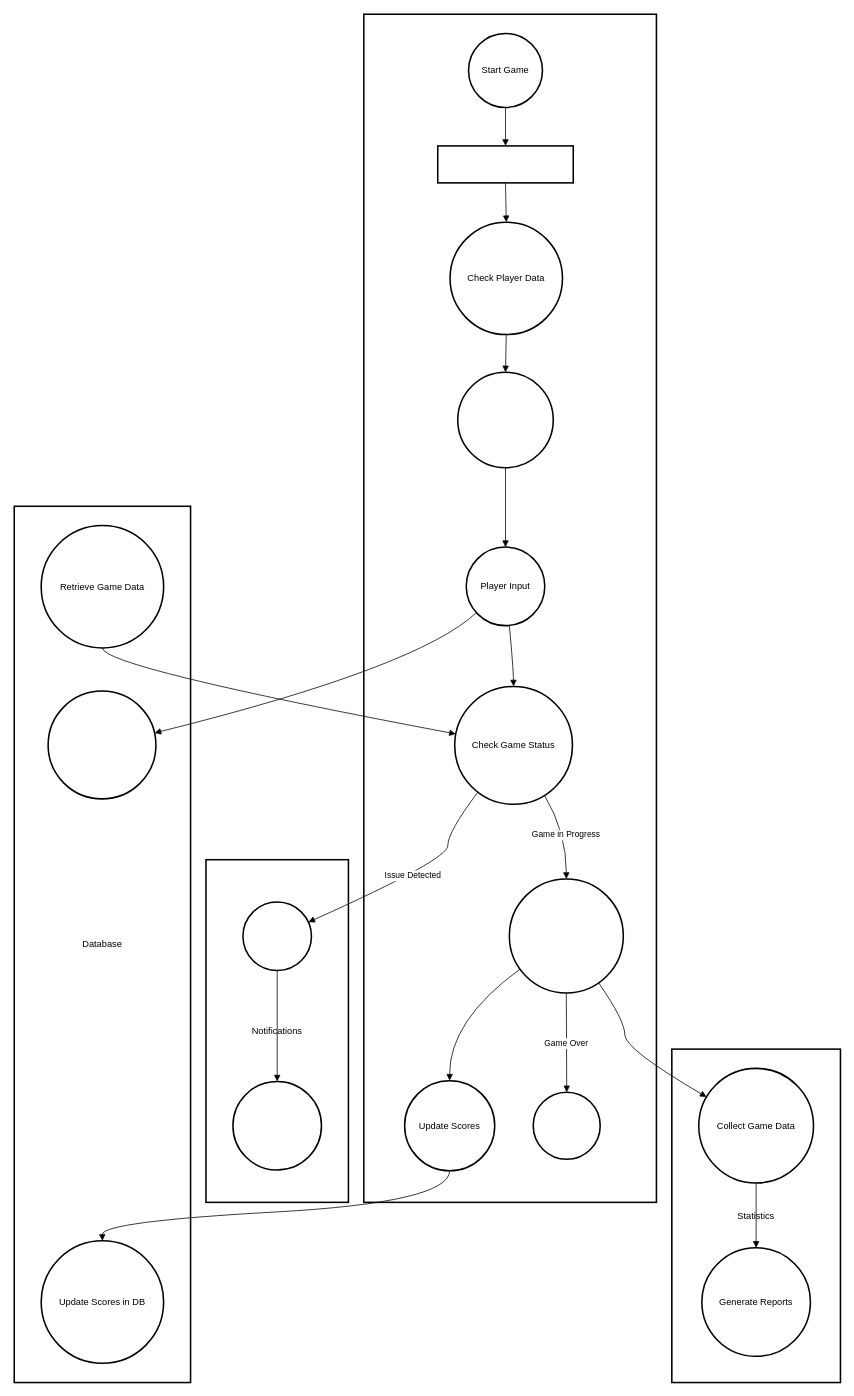
Some shapes in this 854 by 1396 pixel diagram are drawn without their labels. The centre of each missing label's shape, as x and y in pixels:
"End Game" belongs at point 566,1125.
"EnterPlayerData" belongs at point 505,164.
"Execute Gameplay" belongs at point 566,935.
"Initialize Game" belongs at point 505,419.
"Notify Players" belongs at point 277,1125.
"Send Alert" belongs at point 277,936.
"Store Player Data" belongs at point 101,744.
